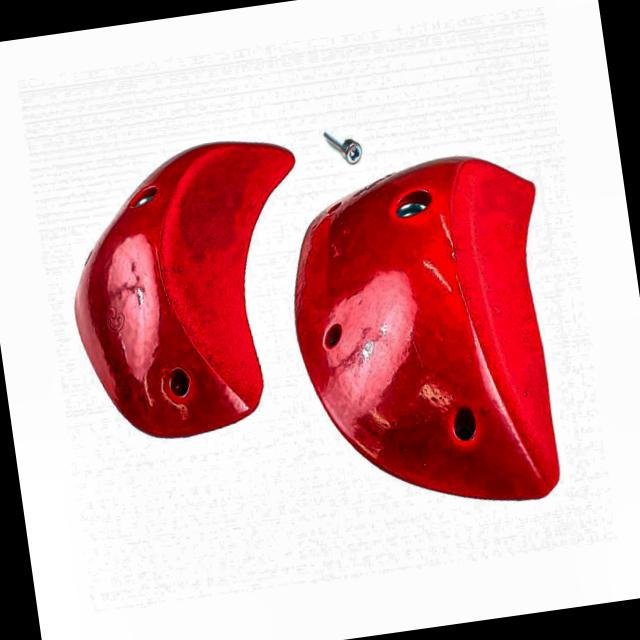Hold: (275, 148, 575, 528), (56, 131, 328, 451)
